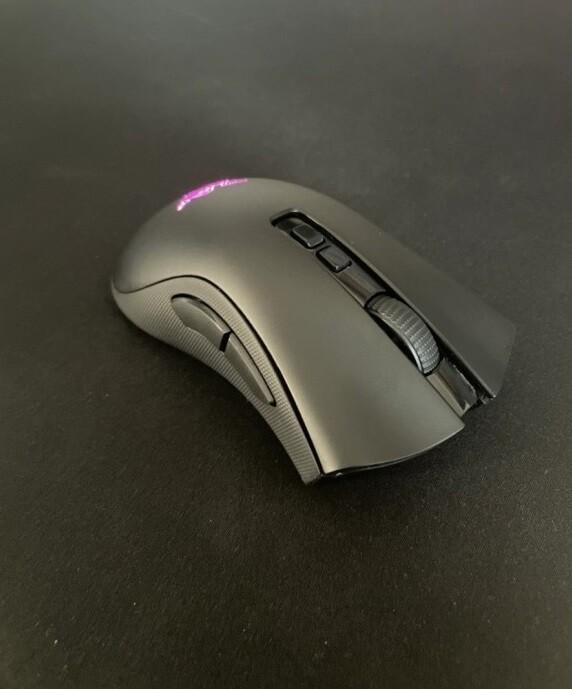mouse: (107, 174, 516, 487)
